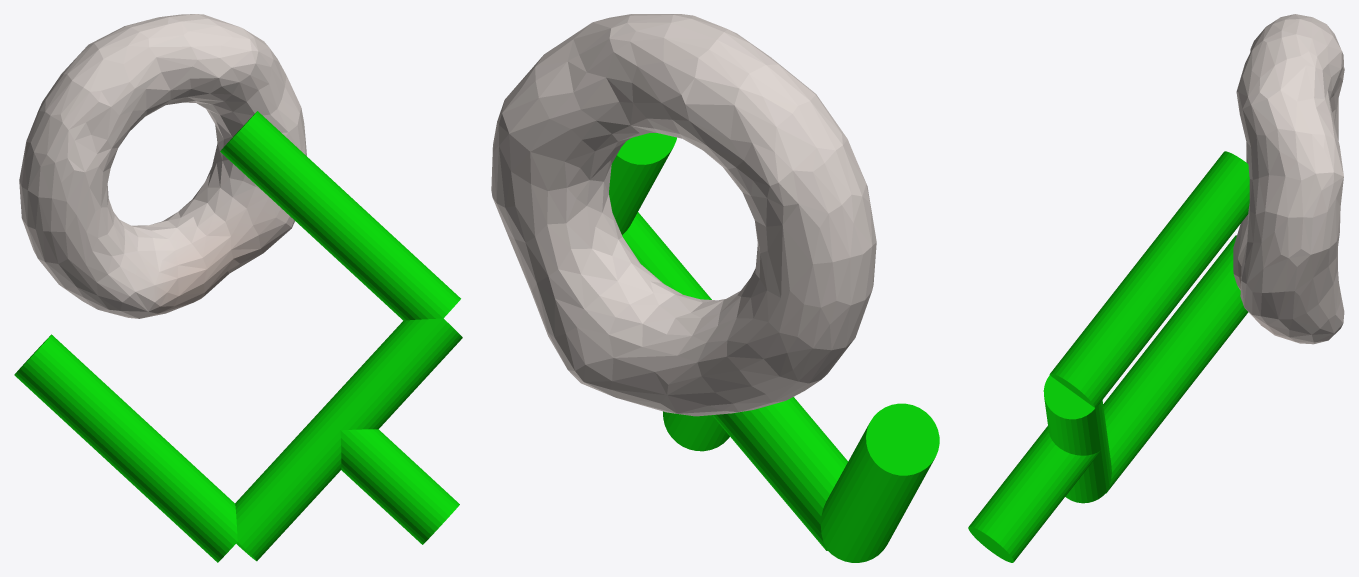
The model's file is round_001_trial_001.obj.
The picture shows the model from 3 angles, left to right: view 1: azimuth 30°, elevation 25°; view 2: azimuth 150°, elevation 25°; view 3: azimuth 270°, elevation 25°; orthographic projection. The views are drawn at different scales.
Parts seen in each view (by area): view 1: geometry_0, geometry_1; view 2: geometry_0, geometry_1; view 3: geometry_1, geometry_0.
Boxes of the visible parts, bbox=[...] form: geometry_0: bbox=[19, 14, 306, 318]; geometry_1: bbox=[14, 111, 462, 562]; geometry_0: bbox=[491, 14, 876, 416]; geometry_1: bbox=[609, 133, 939, 562]; geometry_1: bbox=[968, 151, 1249, 562]; geometry_0: bbox=[1233, 14, 1344, 344].
Bounding box in the file's own units: 0.0753 × 0.0919 × 0.0655.
